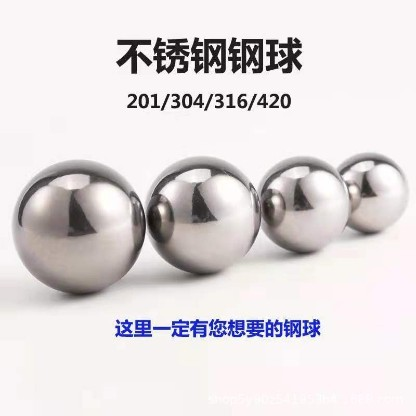ironball: (10, 158, 145, 294), (144, 154, 261, 274), (257, 154, 349, 253), (335, 151, 408, 234)
